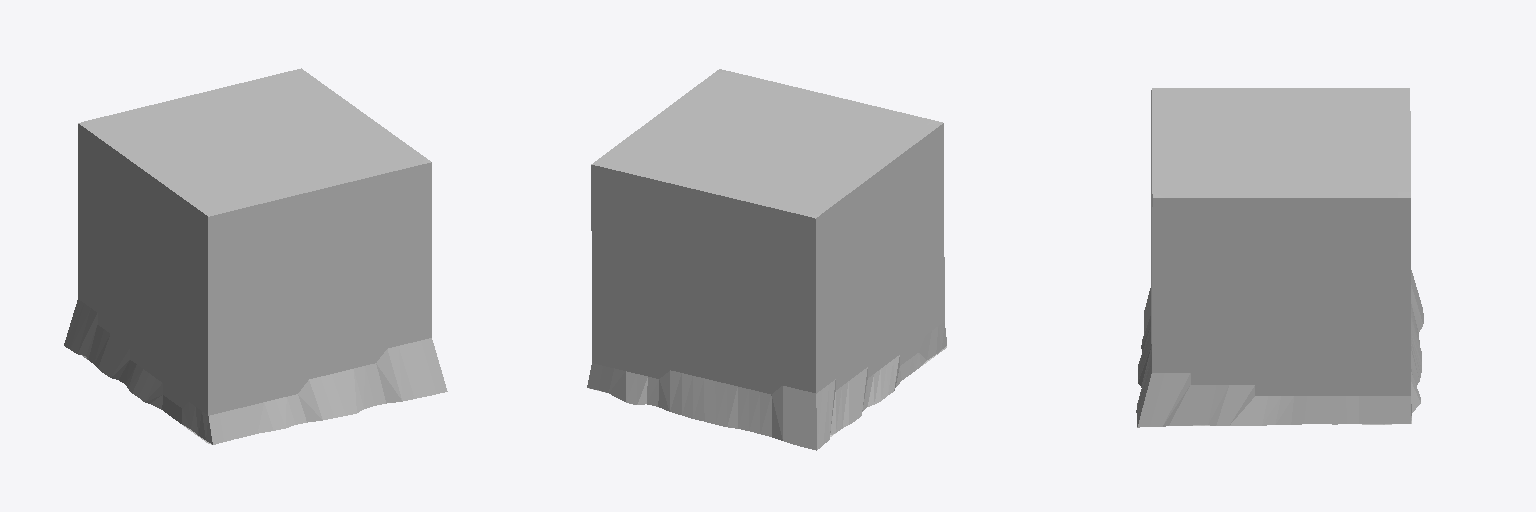
Rendered from mod0159.obj.
3 views of the same model, side by side, from view 1: azimuth 30°, elevation 25°; view 2: azimuth 150°, elevation 25°; view 3: azimuth 270°, elevation 25° (orthographic).
Parts seen in each view (by area): view 1: Box001; view 2: Box001; view 3: Box001.
Boxes of the visible parts, x1=… form: Box001: x1=64, y1=68, x2=447, y2=444; Box001: x1=587, y1=69, x2=946, y2=450; Box001: x1=1136, y1=88, x2=1423, y2=427.
Bounding box in the file's own units: 0.5799 × 0.5217 × 0.5979.